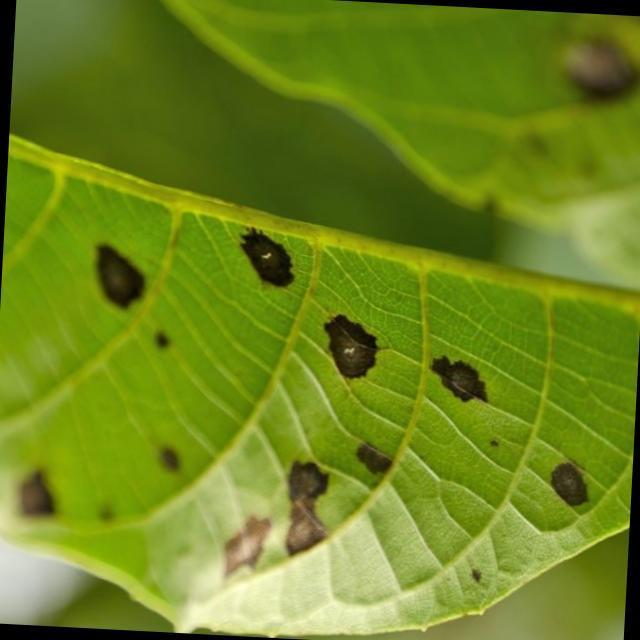Bacterial Spot: (2, 226, 626, 602)
